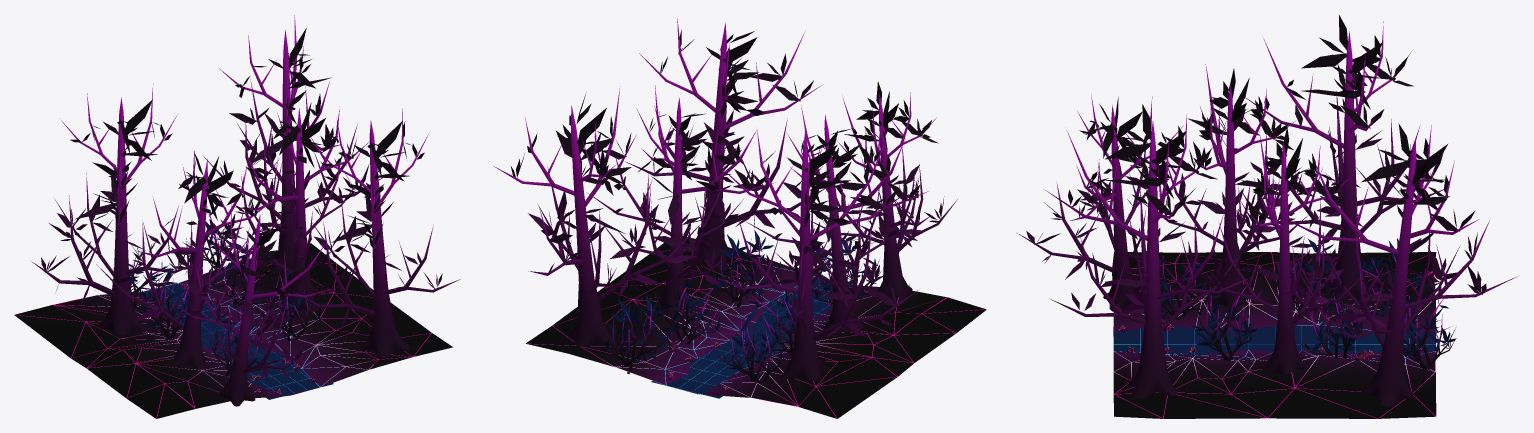
Rendered from Terrain_Forest_4.fbx.
The picture shows the model from 3 angles, left to right: view 1: azimuth 30°, elevation 25°; view 2: azimuth 150°, elevation 25°; view 3: azimuth 270°, elevation 25°; orthographic projection. The views are drawn at different scales.
Visible parts, largest first — view 1: Terrain_Forest_4; view 2: Terrain_Forest_4; view 3: Terrain_Forest_4.
Part boxes in pixels (x1,y1,x2,y2): Terrain_Forest_4: (14, 15, 460, 418); Terrain_Forest_4: (493, 18, 986, 418); Terrain_Forest_4: (1016, 15, 1517, 418).
Size of the model in its own units: 6773 by 4453 by 7204.
2 materials, 2 textured.
